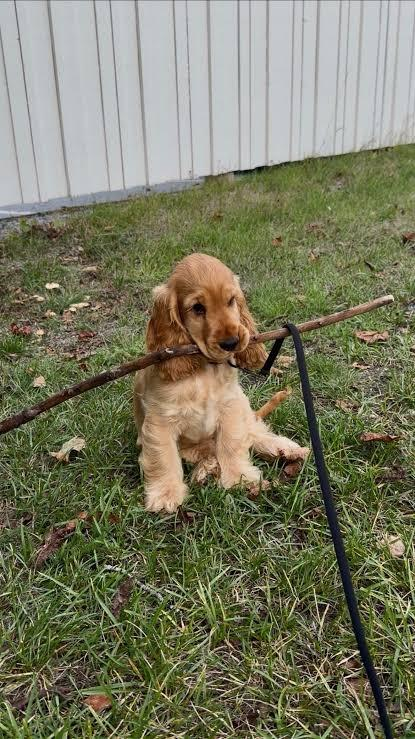puppy-dog: (133, 252, 310, 514)
